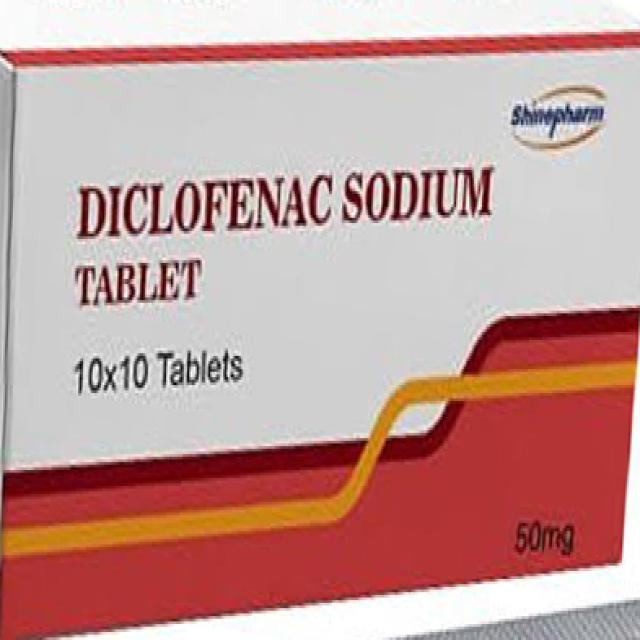drug-name: (75, 158, 498, 243)
